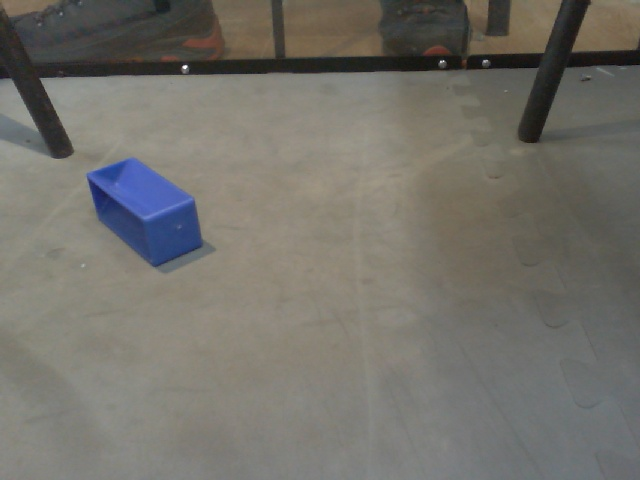BlueSample: (85, 154, 210, 270)
